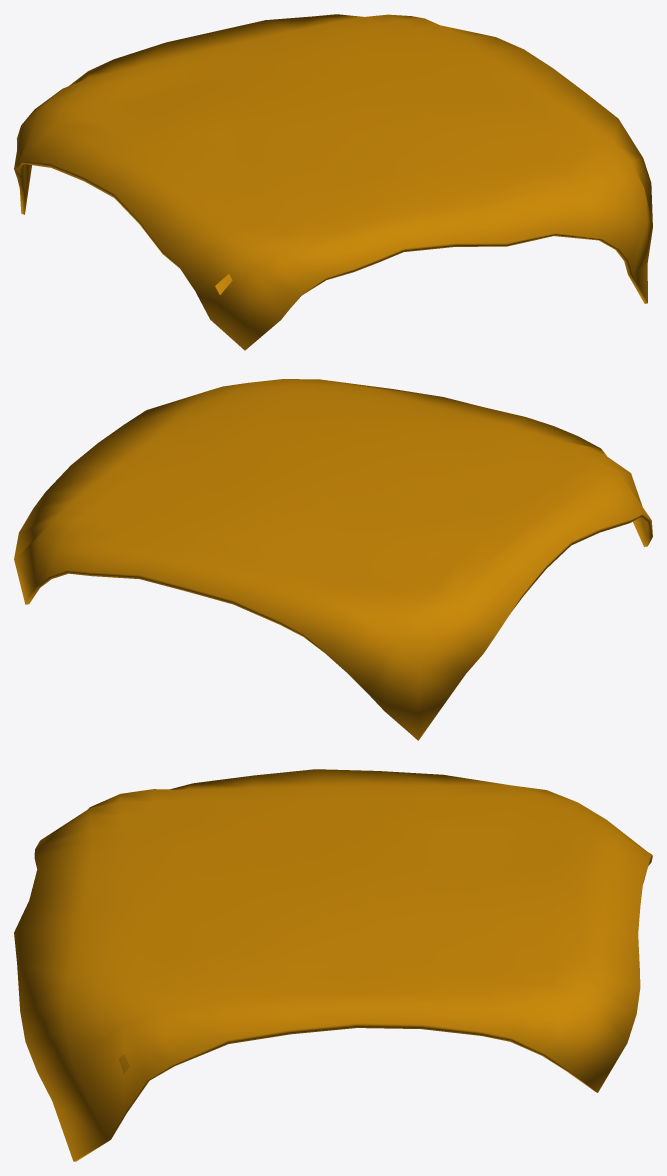
The model's file is cheese.fbx.
3 views of the same model, one above another, from view 1: azimuth 30°, elevation 25°; view 2: azimuth 150°, elevation 25°; view 3: azimuth 270°, elevation 25° (orthographic). The views are drawn at different scales.
Parts seen in each view (by area): view 1: cheese; view 2: cheese; view 3: cheese.
Boxes of the visible parts, x1,y1,x2,y2 form: cheese: [14, 14, 652, 350]; cheese: [14, 379, 652, 740]; cheese: [14, 769, 652, 1161].
Bounding box in the file's own units: 2.23 × 0.6796 × 2.27.
